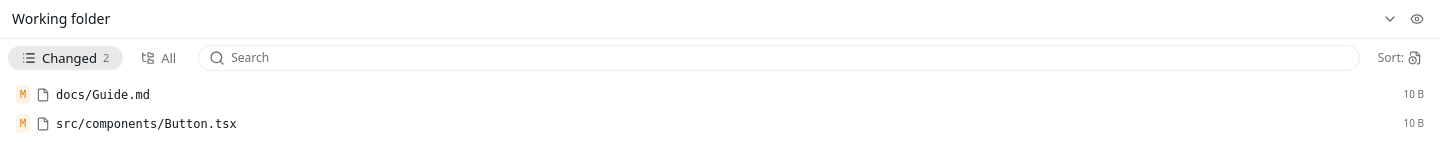
Scenario: FilesPanel changed files search › matches changed files by full path, not just filename
Type "src/components" into the search field named "Search changed files". click: (790, 58)
box: x1=231 y1=50 x2=1349 y2=66
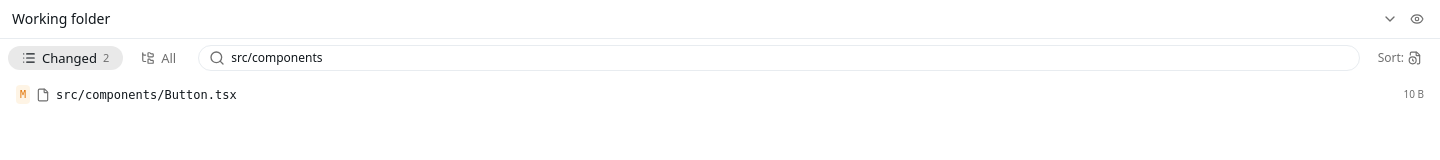
Expected: the button "docs/Guide.md" is gone
